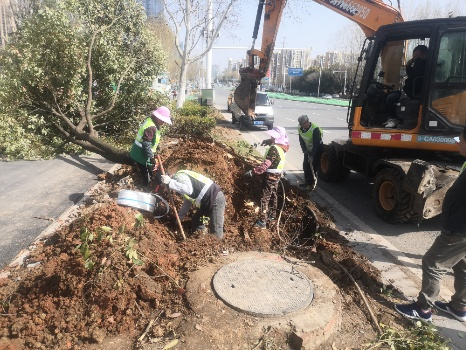good: (209, 257, 316, 319)
